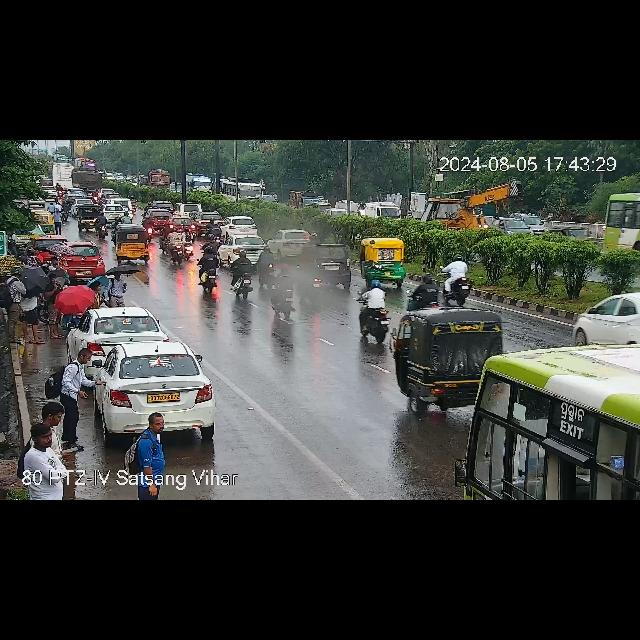bus: (474, 338, 640, 500), (606, 194, 640, 258), (188, 172, 212, 194)
car: (78, 342, 218, 436), (399, 310, 507, 412), (73, 308, 167, 354), (574, 293, 640, 347), (356, 238, 406, 282), (45, 244, 107, 276), (316, 242, 350, 288), (113, 224, 151, 264), (218, 235, 268, 263), (269, 228, 307, 256), (548, 222, 590, 244), (192, 211, 226, 233), (220, 216, 258, 234), (497, 215, 533, 232), (518, 210, 548, 230), (172, 201, 204, 217), (144, 209, 172, 225), (114, 196, 134, 218), (106, 202, 122, 224), (172, 215, 194, 229), (154, 197, 172, 211), (310, 202, 328, 210), (105, 192, 126, 198), (101, 187, 115, 195)
motorcycle: (358, 279, 388, 343), (441, 253, 472, 307), (410, 276, 456, 310), (194, 244, 222, 292), (228, 254, 254, 300), (272, 264, 294, 318), (294, 253, 320, 295), (258, 246, 272, 290), (170, 228, 182, 266), (98, 210, 112, 240), (184, 226, 192, 264), (207, 218, 221, 238), (161, 223, 169, 255), (143, 217, 153, 241), (113, 217, 119, 243), (130, 195, 138, 213), (62, 201, 70, 219), (358, 202, 366, 216), (57, 183, 63, 200), (122, 212, 132, 222), (406, 208, 414, 220), (310, 233, 318, 243), (92, 192, 98, 204), (274, 192, 280, 202)
person: (51, 349, 94, 429), (124, 412, 174, 470), (22, 431, 82, 477), (22, 267, 42, 345), (7, 267, 23, 341), (46, 275, 62, 337), (109, 268, 127, 306), (41, 404, 67, 430), (93, 283, 105, 309), (54, 208, 62, 234), (50, 254, 60, 268), (31, 247, 41, 261), (48, 202, 54, 212)
truck: (424, 183, 518, 230), (218, 180, 270, 202), (358, 202, 402, 222), (138, 167, 172, 189), (289, 190, 319, 208)
